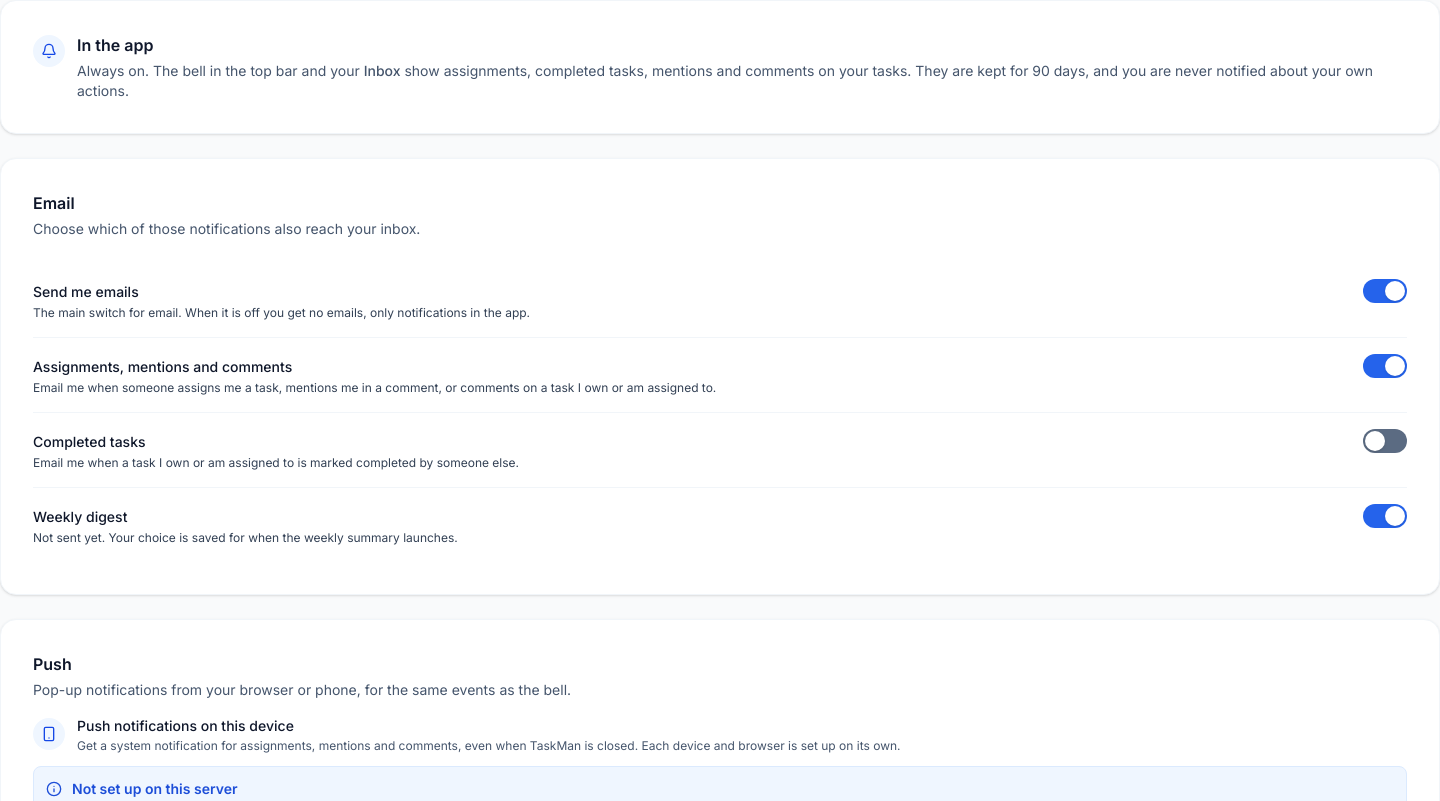
NotificationsPage › warns that nothing is emailed once the main switch is off
Click the switch named "Send me emails" in the row of "Send me emails".
click(1385, 291)  # box [1363,279,1407,303]
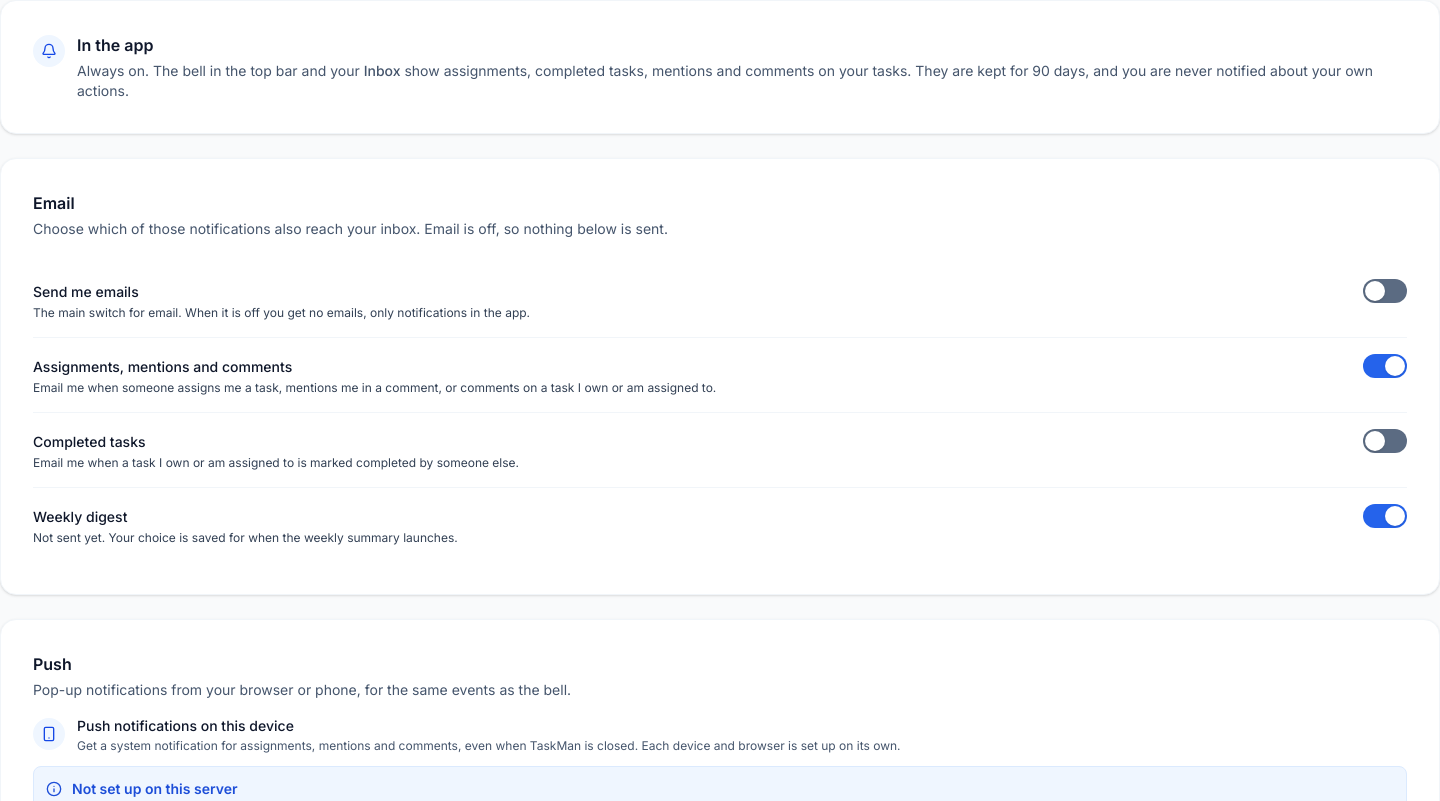
Now the text "Email is off, so nothing below is sent" is shown, box [420,220,668,237]
